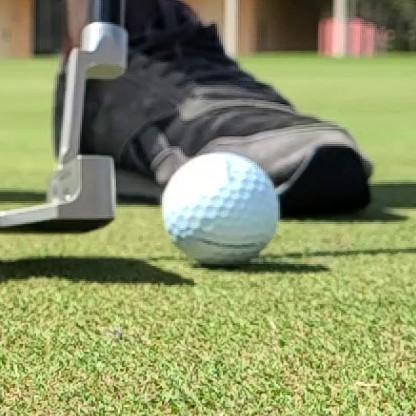golfball: (162, 152, 279, 266)
